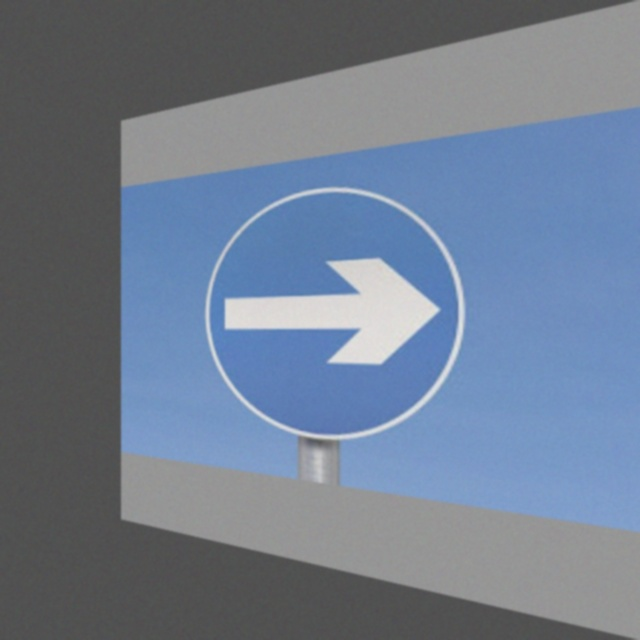Compulsory_Turn_Right: (209, 168, 463, 452)
